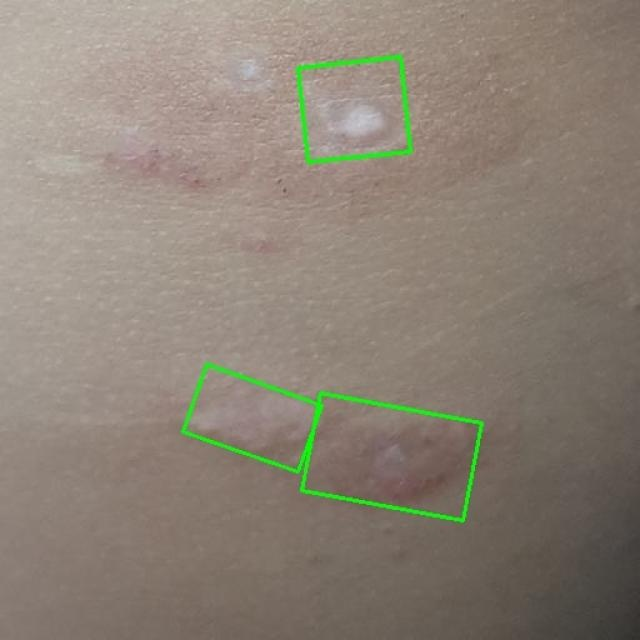Eczema: (302, 393, 482, 521), (183, 365, 322, 472), (298, 57, 410, 162)
